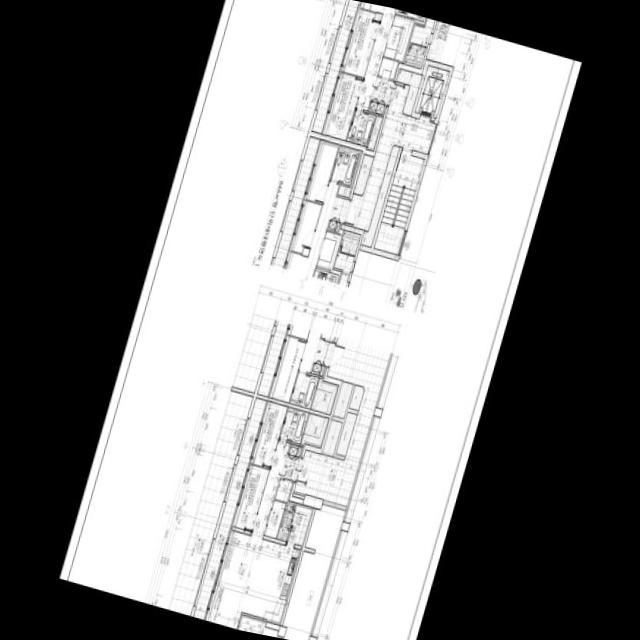background: (59, 0, 581, 640)
space_balconi: (192, 398, 265, 619), (311, 0, 359, 133), (403, 18, 434, 68)
space_bedroom: (323, 73, 362, 140), (341, 9, 379, 77), (232, 465, 268, 531), (251, 401, 286, 468)
space_elevator_hall: (344, 66, 449, 231)
space_front: (274, 444, 302, 501), (368, 77, 392, 115)
space_kitchen: (241, 539, 299, 622)
space_living_room: (205, 440, 289, 629), (355, 2, 395, 110)
space_other: (167, 390, 252, 616), (293, 337, 390, 506), (360, 145, 399, 247), (276, 503, 311, 545), (383, 15, 413, 61), (396, 69, 422, 115), (310, 378, 336, 414), (335, 412, 356, 456), (300, 413, 327, 445), (353, 155, 373, 195), (264, 500, 285, 538), (321, 419, 342, 456), (332, 381, 353, 418), (367, 116, 381, 148), (378, 57, 397, 79), (348, 385, 363, 410), (374, 12, 382, 21)
space_staircase: (373, 147, 424, 254)
space_toilet: (279, 407, 308, 443), (346, 110, 375, 146)
